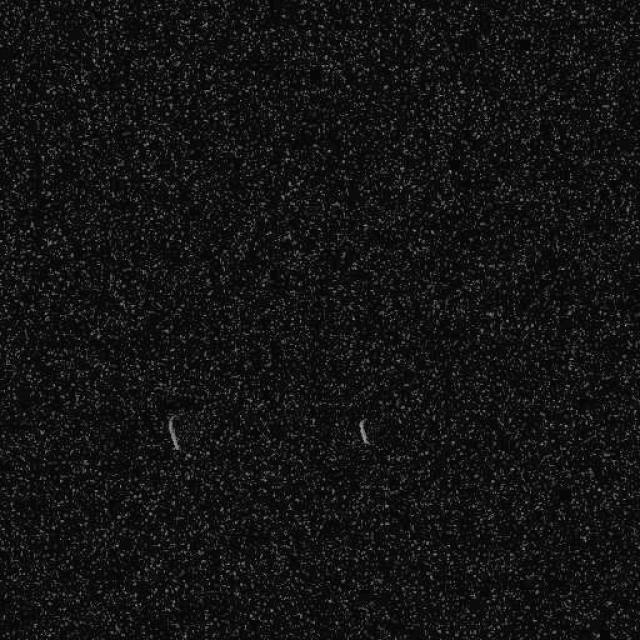D2: (165, 412, 181, 452), (357, 416, 372, 446)
